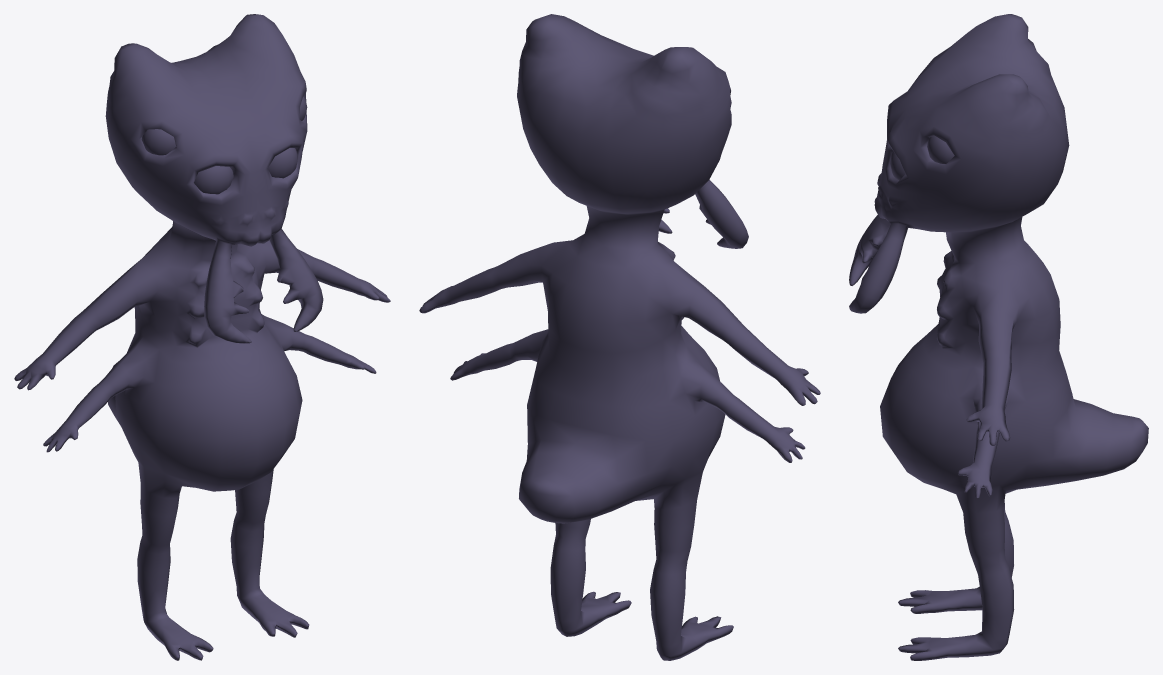
Rendered from monster_3.fbx.
3 views of the same model, side by side, from view 1: azimuth 30°, elevation 25°; view 2: azimuth 150°, elevation 25°; view 3: azimuth 270°, elevation 25° (orthographic). The views are drawn at different scales.
Parts seen in each view (by area): view 1: monster_3; view 2: monster_3; view 3: monster_3.
Part boxes in pixels (x1,y1,x2,y2): monster_3: [14, 14, 390, 660]; monster_3: [419, 14, 820, 660]; monster_3: [849, 14, 1148, 660].
Bounding box in the file's own units: 119 × 178 × 82.89.
